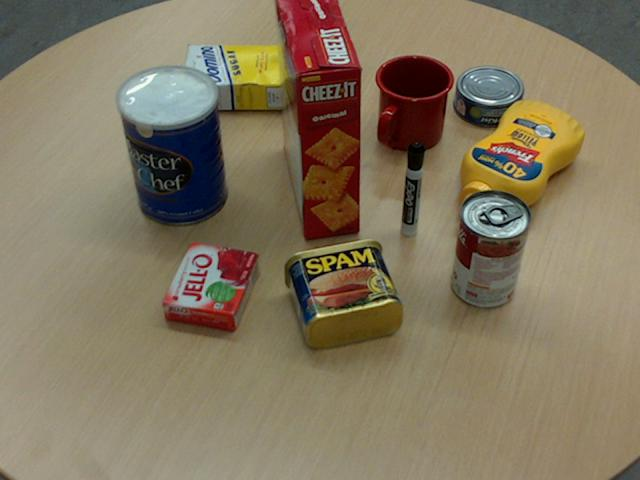cracker_box: (274, 0, 360, 238)
gelatin_box: (161, 240, 259, 330)
large_marker: (402, 142, 425, 236)
master_chef_can: (117, 65, 226, 225)
mug: (374, 54, 453, 150)
mustard_bottle: (459, 100, 582, 219)
potted_meat_can: (283, 237, 402, 346)
sugar_box: (181, 44, 324, 108)
tomato_soup_can: (451, 188, 531, 307)
tuna_fish_can: (452, 65, 522, 126)
